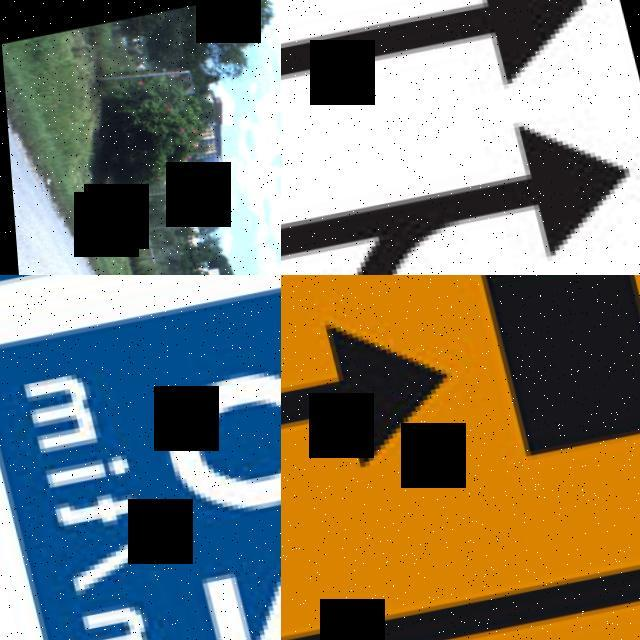63: (281, 275, 640, 640)
71: (281, 0, 640, 275)
lowspeed zone: (0, 275, 281, 640)
